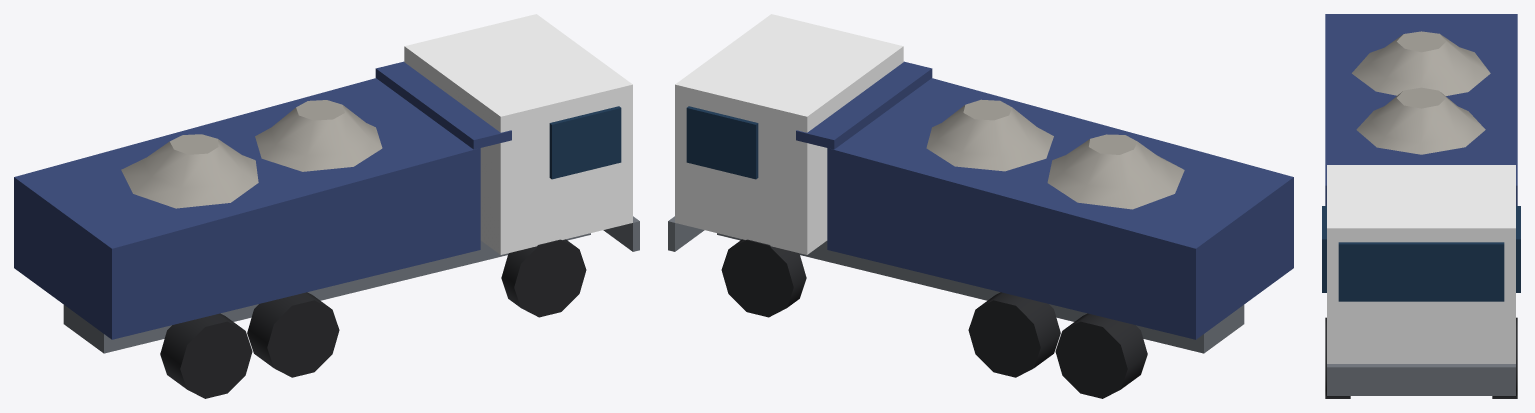
The model's file is site_truck.fbx.
The picture shows the model from 3 angles, left to right: view 1: azimuth 30°, elevation 25°; view 2: azimuth 150°, elevation 25°; view 3: azimuth 270°, elevation 25°; orthographic projection.
Visible parts, largest first — view 1: a1089/0/site_truck; view 2: a1089/0/site_truck; view 3: a1089/0/site_truck.
Boxes of the visible parts, x1=… form: a1089/0/site_truck: x1=14, y1=14, x2=639, y2=398; a1089/0/site_truck: x1=668, y1=14, x2=1293, y2=398; a1089/0/site_truck: x1=1322, y1=14, x2=1520, y2=398.
Bounding box in the file's own units: 7.6 × 2.92 × 2.52.
